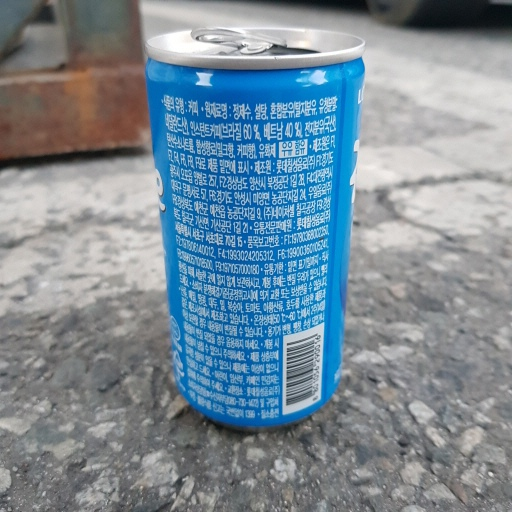Metal_0: (143, 26, 368, 432)
